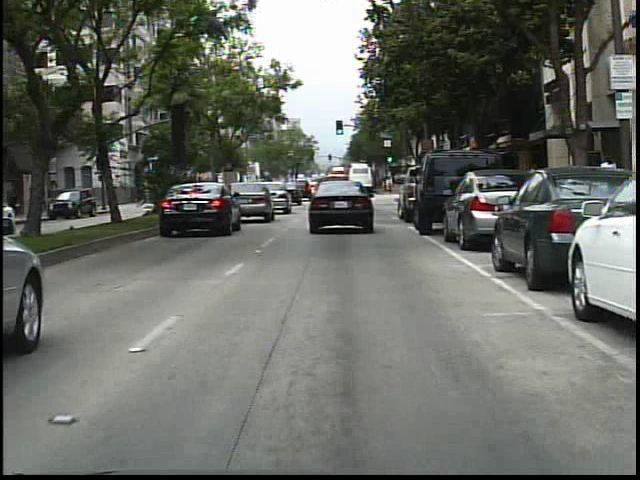person: (596, 151, 622, 227)
